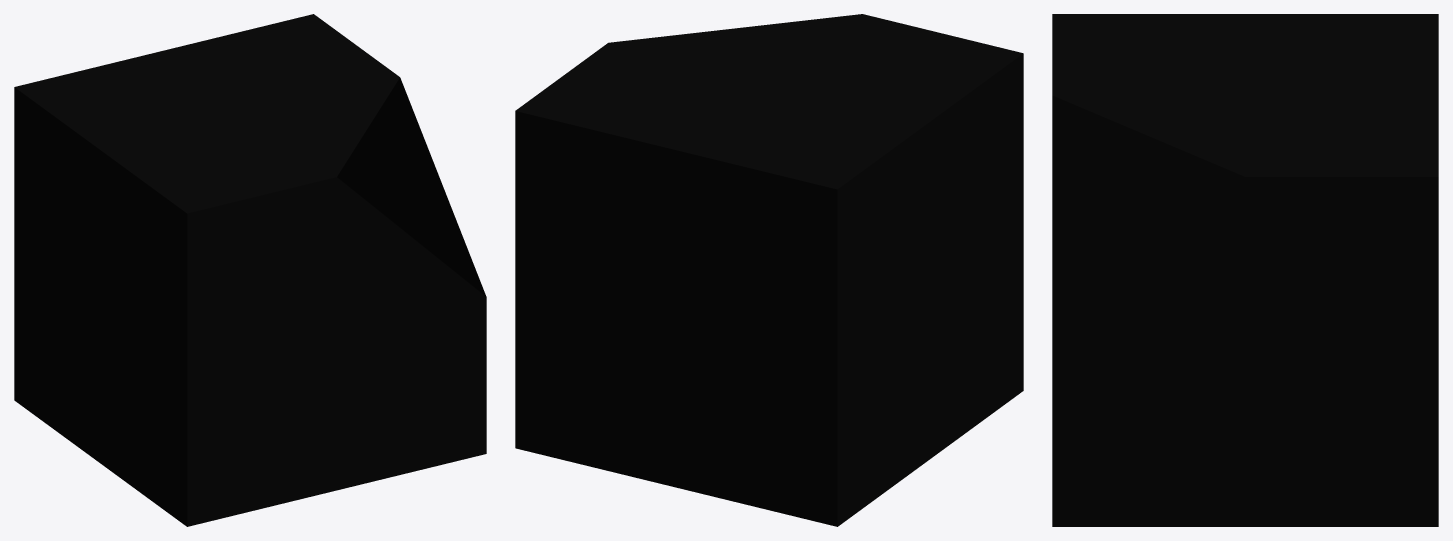
The model's file is r3c1_body_black.gltf.
The picture shows the model from 3 angles, left to right: view 1: azimuth 30°, elevation 25°; view 2: azimuth 150°, elevation 25°; view 3: azimuth 270°, elevation 25°; orthographic projection. The views are drawn at different scales.
Visible parts, largest first — view 1: r3c1_body_black; view 2: r3c1_body_black; view 3: r3c1_body_black.
Part boxes in pixels (box(x1,y1,x2,y2)): r3c1_body_black: box(14, 14, 486, 526); r3c1_body_black: box(515, 14, 1023, 526); r3c1_body_black: box(1052, 14, 1438, 526).
Size of the model in its own units: 2 by 2 by 2.
Materials: 1 (1 with a texture image).
